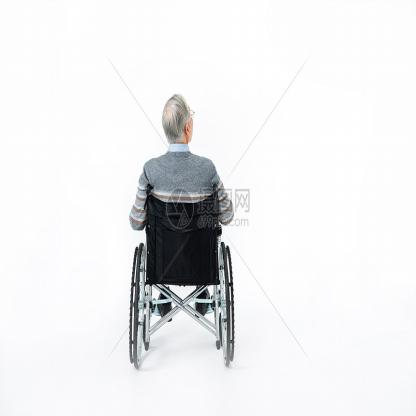wheelchair: (124, 88, 242, 374)
